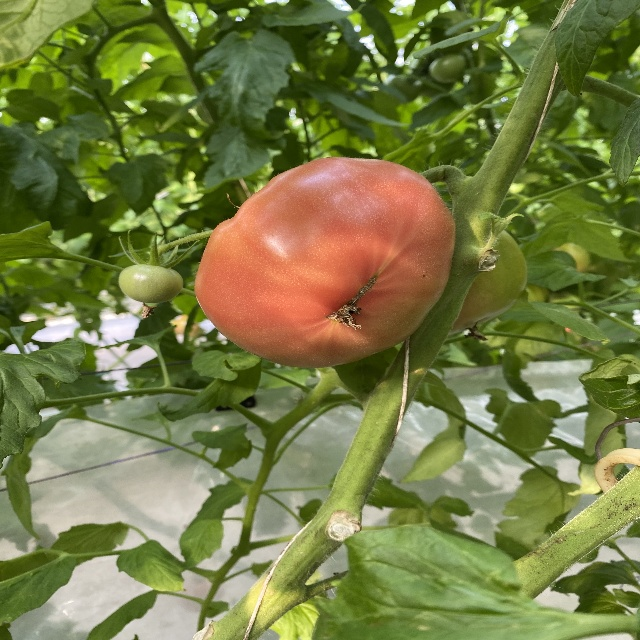b_green: (445, 222, 528, 337), (118, 264, 184, 303)
b_half_ripened: (194, 156, 456, 368)
